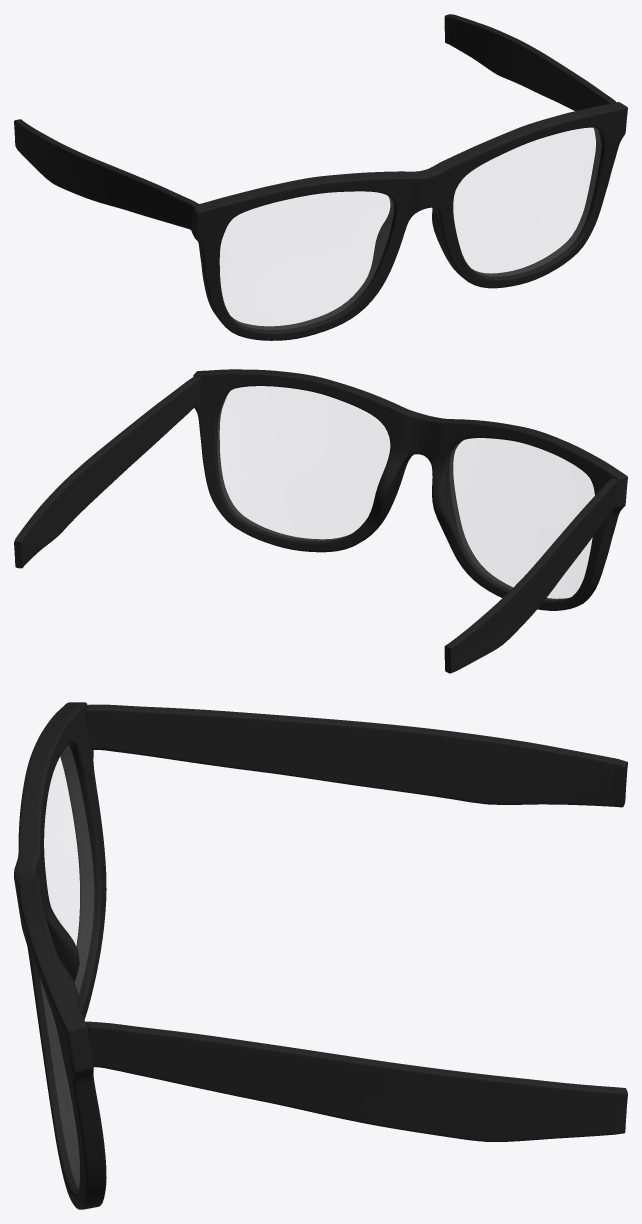
The model's file is Ennio_app_2.glb.
3 renders of one model, top to bottom at view 1: azimuth 30°, elevation 25°; view 2: azimuth 150°, elevation 25°; view 3: azimuth 270°, elevation 25°, orthographic. The views are drawn at different scales.
Visible parts, largest first — view 1: armacao, Lentes; view 2: Lentes, armacao; view 3: armacao, Lentes.
Boxes of the visible parts, x1,y1,x2,y2 form: armacao: (14, 14, 627, 340); Lentes: (220, 128, 600, 329); Lentes: (218, 386, 594, 599); armacao: (14, 369, 627, 673); armacao: (14, 702, 627, 1209); Lentes: (41, 745, 93, 1187).
Size of the model in its own units: 0.1613 by 0.0558 by 0.1214.
2 materials, 1 textured.
